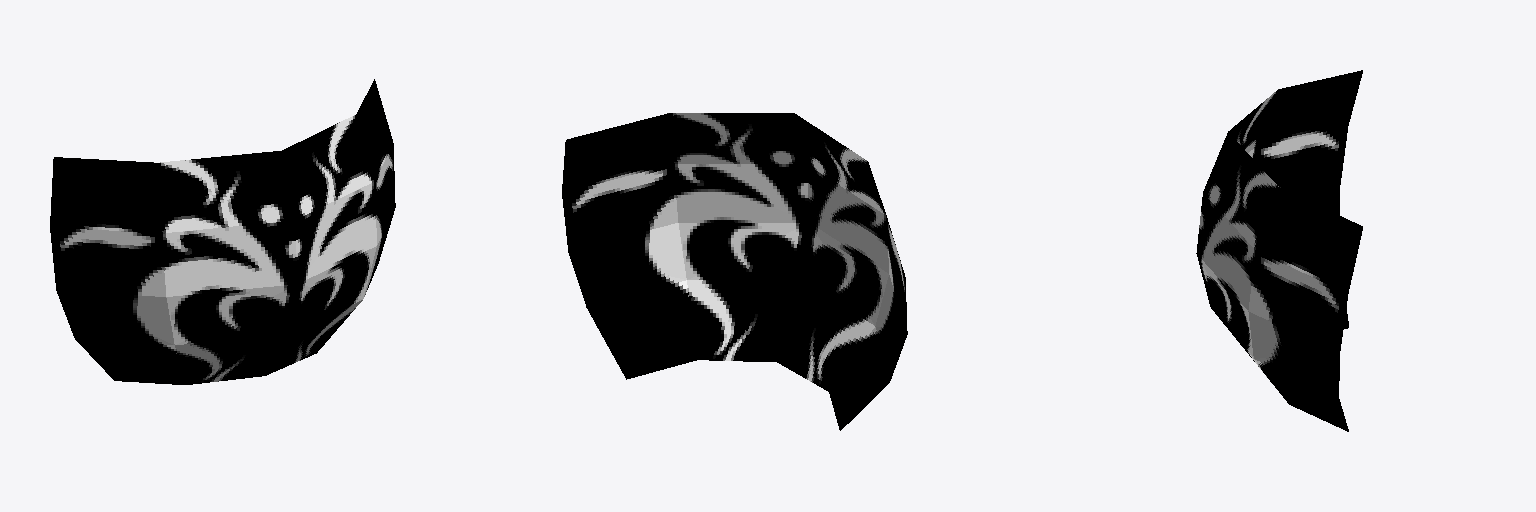
The picture shows the model from 3 angles: view 1: azimuth 30°, elevation 25°; view 2: azimuth 150°, elevation 25°; view 3: azimuth 270°, elevation 25°; orthographic projection.
Visible parts, largest first — view 1: polygon0; view 2: polygon0; view 3: polygon0.
Boxes of the visible parts, box(x1,y1,x2,y2) form: polygon0: box(50, 79, 395, 384); polygon0: box(562, 113, 907, 430); polygon0: box(1196, 70, 1362, 431).
Bounding box in the file's own units: 4.04 × 2.79 × 1.7.
1 materials, 1 textured.